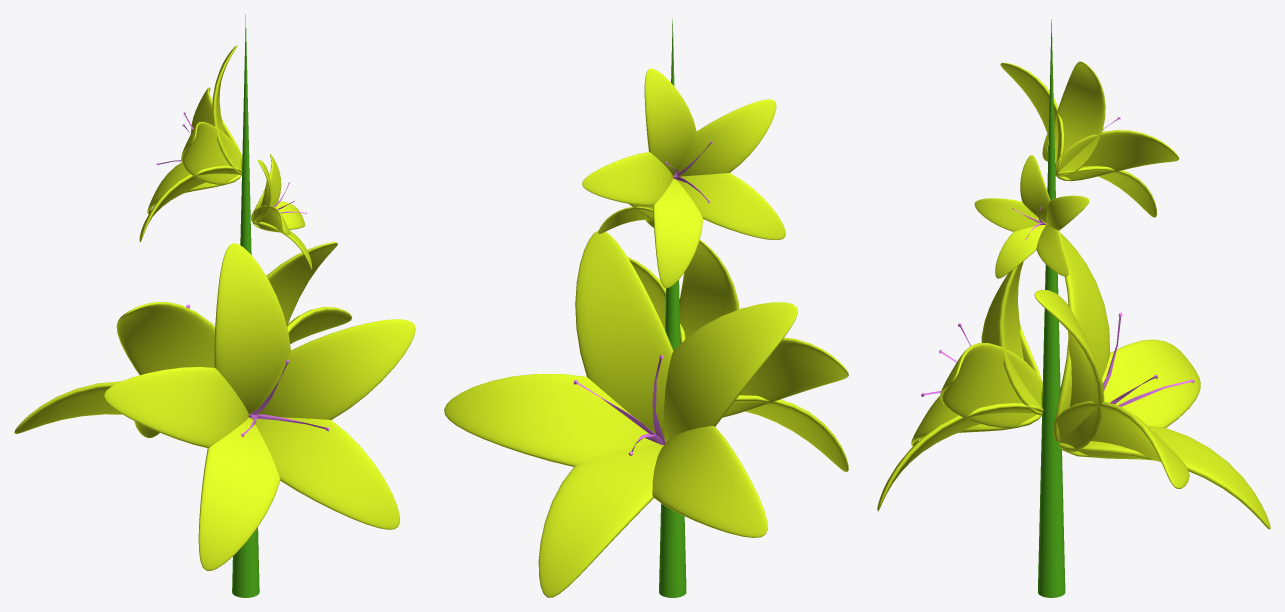
Rendered from SpringEranthis.fbx.
3 views of the same model, side by side, from view 1: azimuth 30°, elevation 25°; view 2: azimuth 150°, elevation 25°; view 3: azimuth 270°, elevation 25° (orthographic).
Visible parts, largest first — view 1: Spring_Eranthis; view 2: Spring_Eranthis; view 3: Spring_Eranthis.
Part boxes in pixels (x1=…): Spring_Eranthis: x1=14, y1=14, x2=415, y2=597; Spring_Eranthis: x1=444, y1=19, x2=848, y2=597; Spring_Eranthis: x1=877, y1=19, x2=1270, y2=597.
Size of the model in its own units: 676 by 1133 by 699.
Materials: 1 (1 with a texture image).
